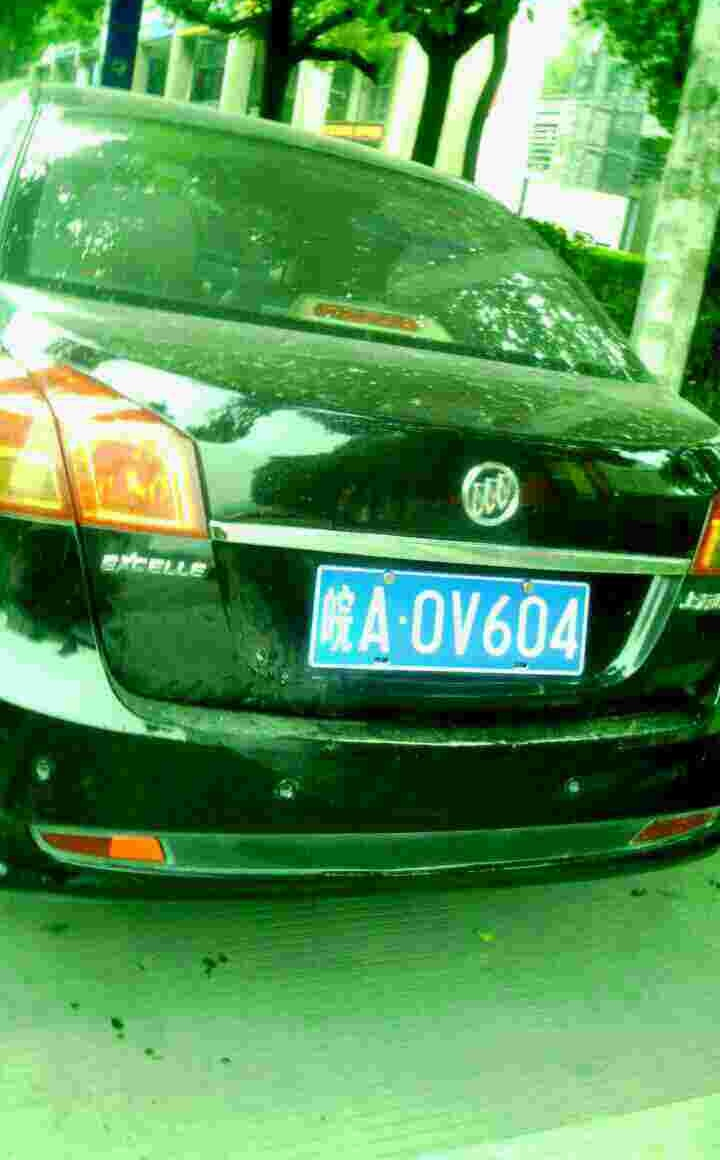plate: (317, 564, 600, 682)
